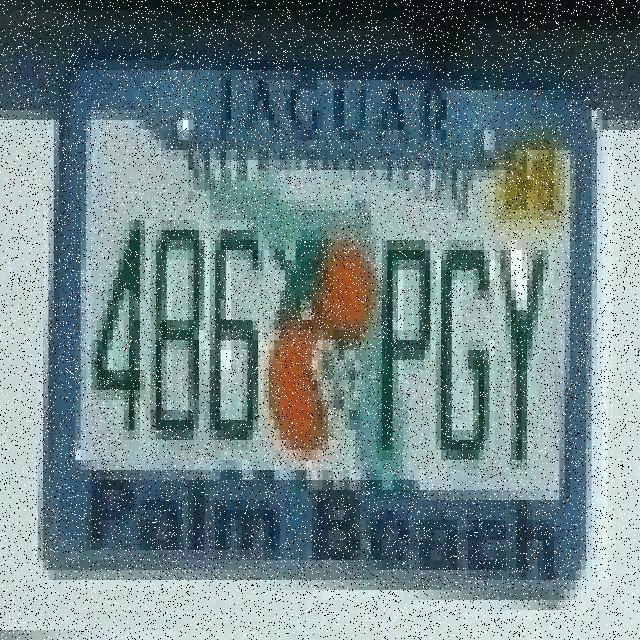LicensePlate: (51, 38, 613, 587)
